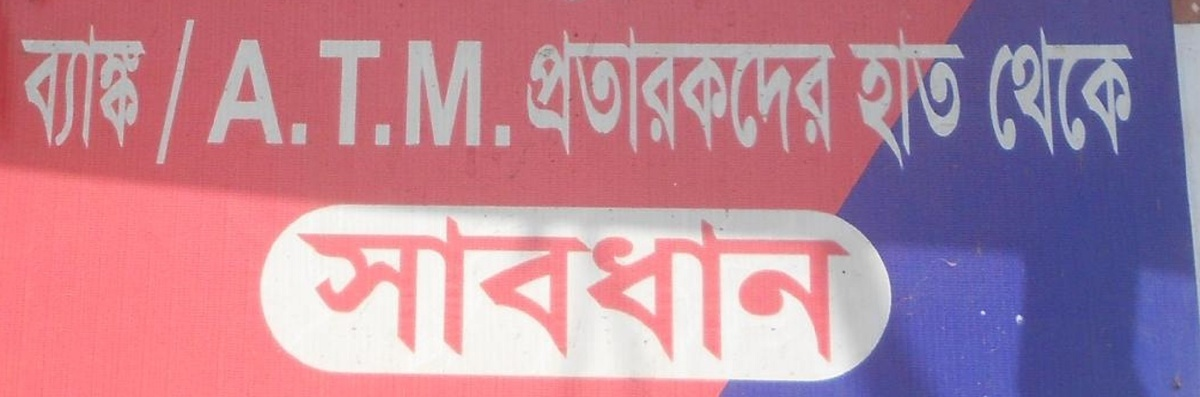text: (161, 13, 176, 164), (177, 13, 192, 164), (305, 215, 320, 362), (321, 215, 336, 362), (337, 215, 352, 362), (353, 215, 368, 362), (369, 215, 384, 362), (385, 215, 400, 362), (401, 215, 416, 362), (417, 215, 432, 362), (433, 215, 448, 362), (449, 215, 464, 362), (465, 215, 480, 362), (481, 215, 496, 362), (497, 215, 512, 362), (513, 215, 528, 362), (529, 215, 544, 362), (545, 215, 560, 362), (561, 215, 576, 362), (577, 215, 592, 362), (593, 215, 608, 362), (609, 215, 624, 362), (625, 215, 640, 362), (641, 215, 656, 362), (657, 215, 672, 362), (673, 215, 688, 362), (689, 215, 704, 362), (705, 215, 720, 362), (721, 215, 736, 362), (737, 215, 752, 362), (753, 215, 768, 362), (769, 215, 784, 362), (785, 215, 800, 362), (801, 215, 816, 362), (817, 215, 832, 362), (833, 215, 848, 362), (993, 25, 1008, 159), (1009, 25, 1024, 159), (1025, 25, 1040, 159), (1041, 25, 1056, 159), (1057, 25, 1072, 159), (1073, 25, 1088, 159), (1089, 25, 1104, 159), (1105, 25, 1120, 159), (849, 31, 864, 164), (865, 31, 880, 164), (881, 31, 896, 164), (897, 31, 912, 164), (913, 31, 928, 164), (929, 31, 944, 164), (945, 31, 960, 164), (529, 25, 544, 156), (545, 25, 560, 156), (561, 25, 576, 156), (577, 25, 592, 156), (593, 25, 608, 156), (609, 25, 624, 156), (625, 25, 640, 156), (641, 25, 656, 156), (657, 25, 672, 156), (673, 25, 688, 156), (689, 25, 704, 156), (705, 25, 720, 156), (721, 25, 736, 156), (737, 25, 752, 156), (753, 25, 768, 156), (769, 25, 784, 156), (785, 25, 800, 156), (801, 25, 816, 156), (817, 25, 832, 156), (33, 21, 48, 149), (49, 21, 64, 149), (65, 21, 80, 149), (81, 21, 96, 149), (97, 21, 112, 149), (113, 21, 128, 149), (129, 21, 144, 149), (1121, 25, 1135, 159), (225, 36, 240, 148), (241, 36, 256, 148), (257, 36, 272, 148), (273, 36, 288, 148), (289, 36, 304, 148), (305, 36, 320, 148), (321, 36, 336, 148), (337, 36, 352, 148), (353, 36, 368, 148), (369, 36, 384, 148), (385, 36, 400, 148), (401, 36, 416, 148), (417, 36, 432, 148), (433, 36, 448, 148), (449, 36, 464, 148), (465, 36, 480, 148), (481, 36, 496, 148), (497, 36, 512, 148), (20, 21, 32, 149), (211, 36, 224, 148), (961, 31, 968, 164), (193, 13, 199, 164), (298, 215, 304, 362), (833, 25, 839, 156), (513, 36, 518, 148), (988, 25, 992, 159), (157, 13, 160, 164), (849, 215, 852, 362), (145, 21, 148, 149), (526, 25, 528, 156)
